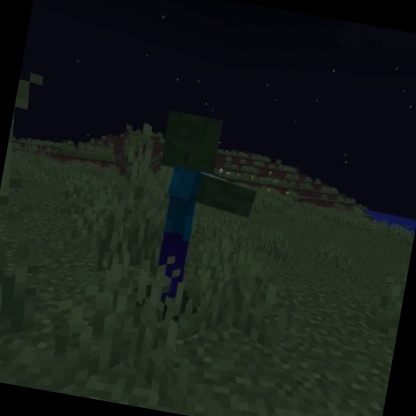zombie: (127, 103, 273, 334)
